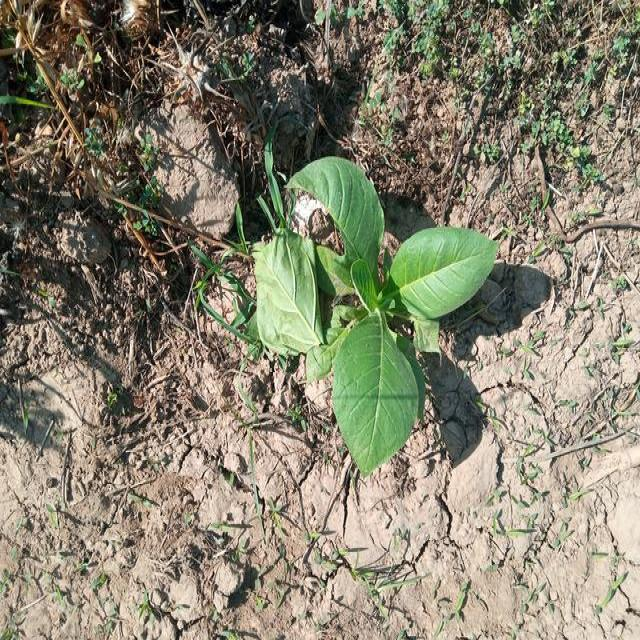crop: (246, 153, 499, 474)
